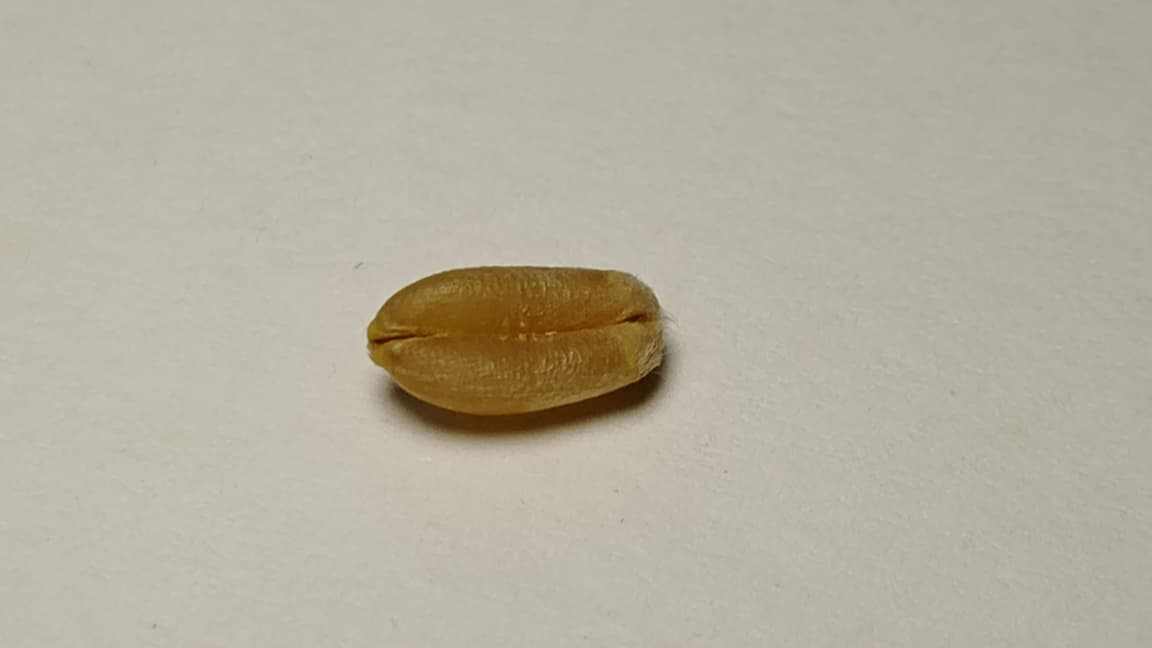healthy: (368, 267, 662, 410)
